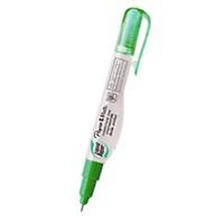correction_fluid: (77, 4, 151, 215)
